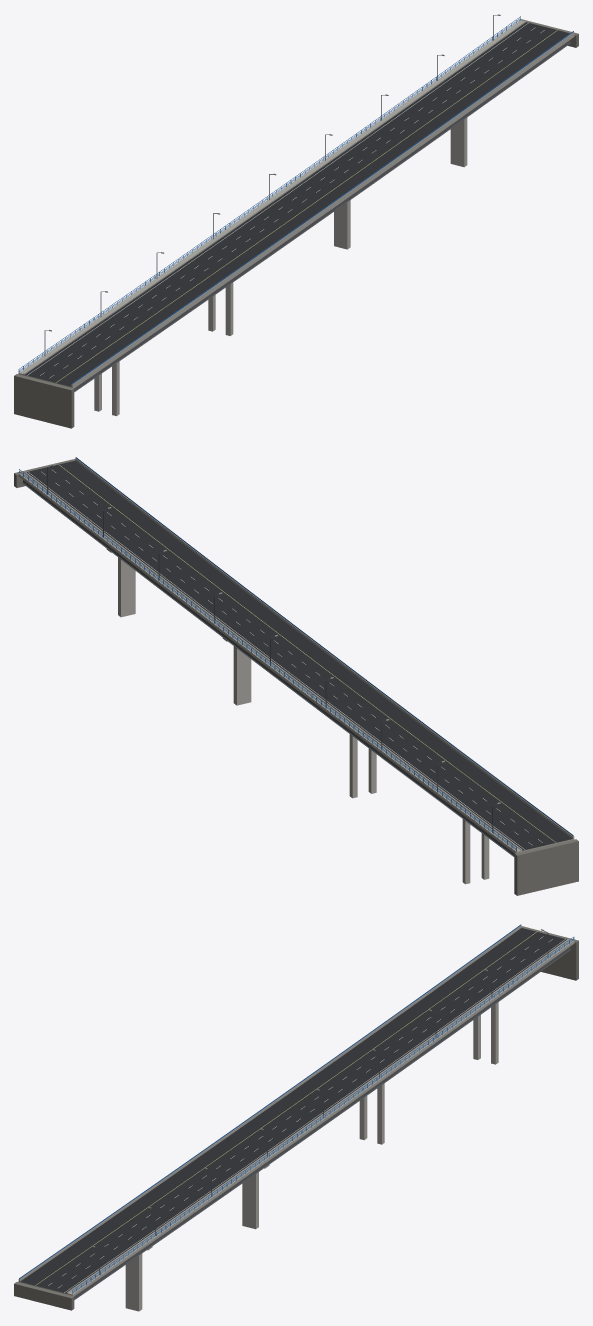
The model's file is br_r20_beverly.gltf.
3 renders of one model, top to bottom at view 1: azimuth 90°, elevation 25°; view 2: azimuth 150°, elevation 25°; view 3: azimuth 270°, elevation 25°, orthographic. The views are drawn at different scales.
Parts seen in each view (by area): view 1: br_r20_beverly; view 2: br_r20_beverly; view 3: br_r20_beverly.
Boxes of the visible parts, left/top/right/bottom form: br_r20_beverly: left=14, top=14, right=578, bottom=428; br_r20_beverly: left=14, top=457, right=578, bottom=895; br_r20_beverly: left=14, top=924, right=578, bottom=1311.
Bounding box in the file's own units: 291 × 38.95 × 187.
